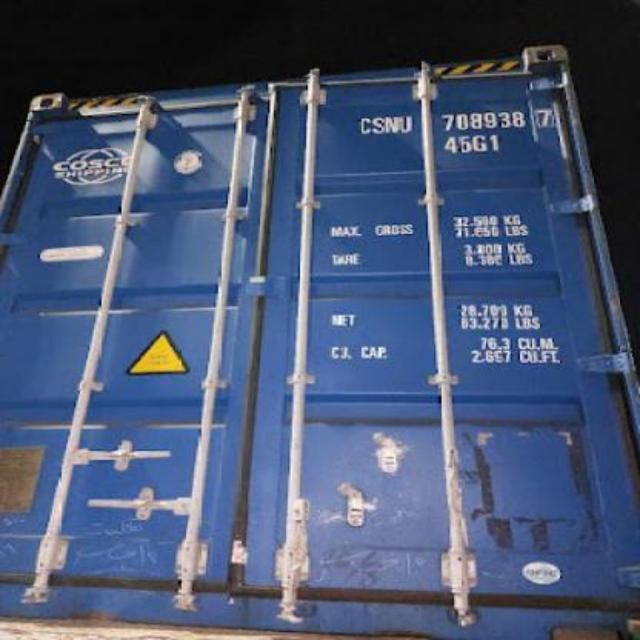0: (456, 114, 468, 130)
3: (498, 111, 510, 129)
7: (536, 110, 554, 126), (442, 113, 454, 131)
8: (514, 109, 524, 129), (472, 113, 484, 129)
9: (484, 111, 498, 129)
C: (360, 116, 370, 136)
N: (384, 115, 398, 135)
S: (371, 117, 384, 135)
U: (400, 116, 412, 132)
